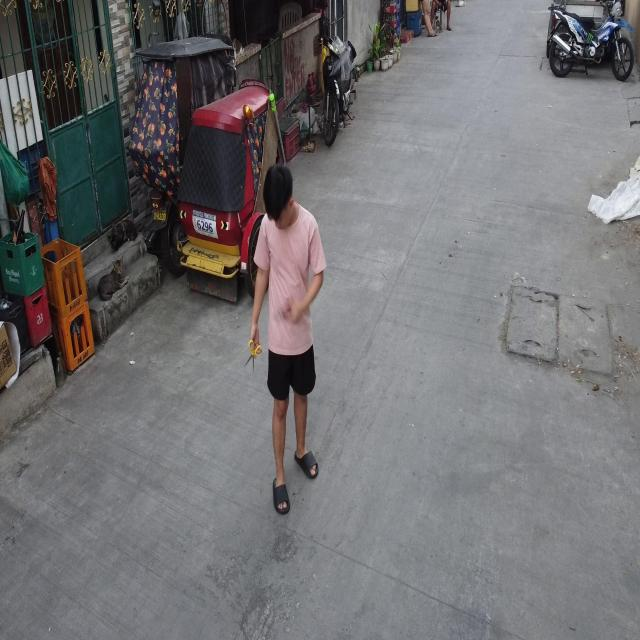scissor: (245, 340, 262, 372)
